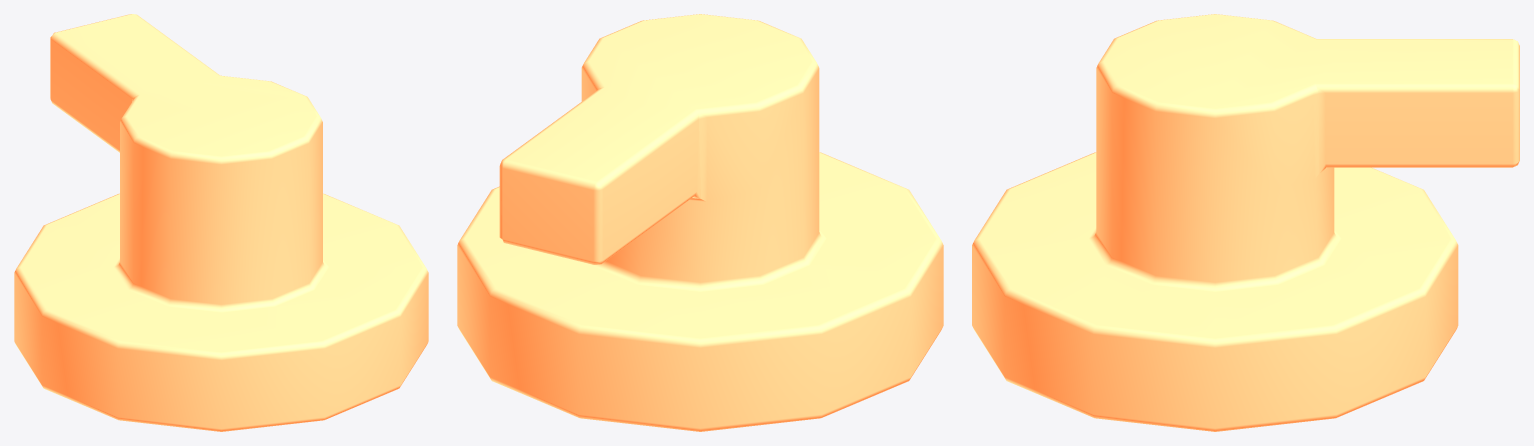
Rendered from SM_MastConnect02_03.fbx.
The picture shows the model from 3 angles, left to right: view 1: azimuth 30°, elevation 25°; view 2: azimuth 150°, elevation 25°; view 3: azimuth 270°, elevation 25°; orthographic projection. The views are drawn at different scales.
Visible parts, largest first — view 1: SM_MastConnect02_03; view 2: SM_MastConnect02_03; view 3: SM_MastConnect02_03.
Part boxes in pixels (<box>): SM_MastConnect02_03: <box>14,14,428,431</box>; SM_MastConnect02_03: <box>457,14,943,431</box>; SM_MastConnect02_03: <box>972,14,1519,431</box>.
Size of the model in its own units: 53.57 by 60.35 by 32.9.
